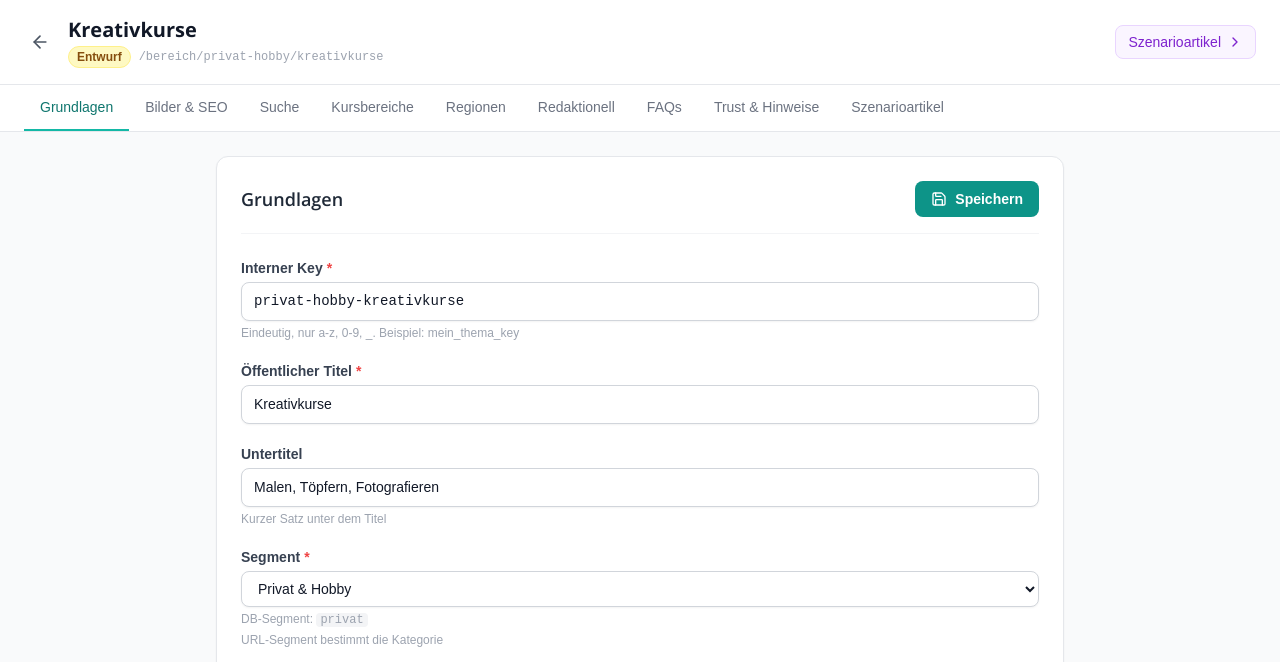
Test: section_titles: alle geforderten Überschriften sind bearbeitbar › zeigt den gespeicherten Wert von scenarios_heading
The width and height of the screenshot is (1280, 662).
Click the button "Trust & Hinweise" at {"x": 767, "y": 108}, box top-left (698, 85), bottom-right (835, 131)
(page scrolled)
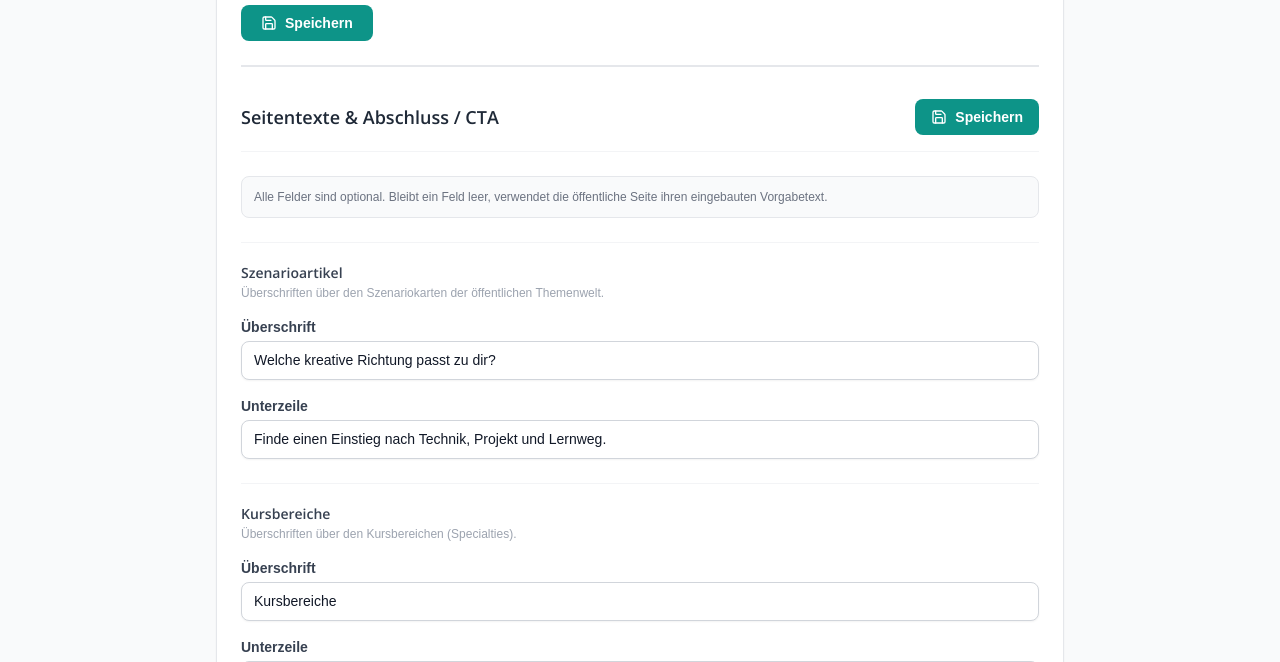
Check: the 1st field holds "Welche kreative Richtung passt zu dir?", box top-left (241, 341), bottom-right (1039, 380)
